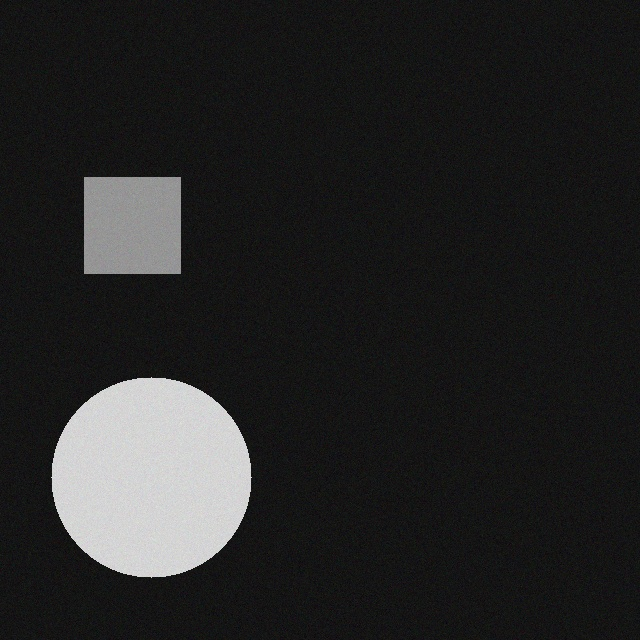circle: (52, 364, 252, 564)
square: (85, 164, 181, 260)
